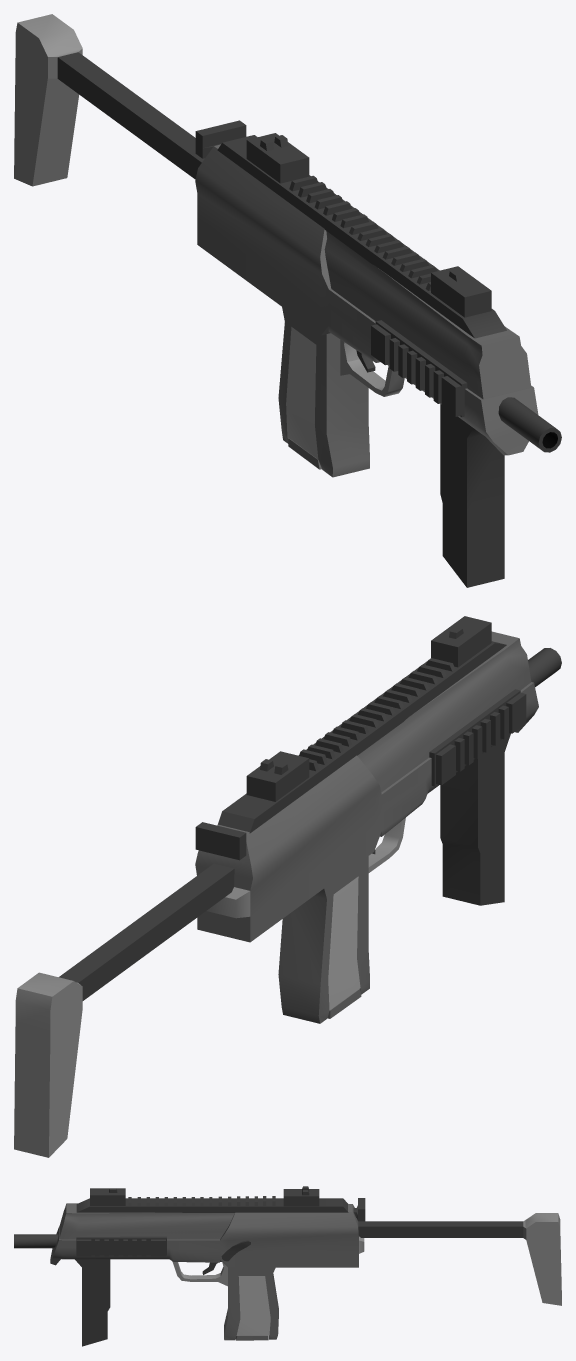
The model's file is 08-Tactical-SMG.glb.
3 views of the same model, one above another, from view 1: azimuth 30°, elevation 25°; view 2: azimuth 150°, elevation 25°; view 3: azimuth 270°, elevation 25° (orthographic). The views are drawn at different scales.
Parts seen in each view (by area): view 1: Tactical SMG; view 2: Tactical SMG; view 3: Tactical SMG.
Boxes of the visible parts, x1,y1,x2,y2 form: Tactical SMG: (14, 14, 561, 587); Tactical SMG: (14, 616, 561, 1157); Tactical SMG: (14, 1186, 561, 1346).
Size of the model in its own units: 0.0527 by 0.206 by 0.67.
Materials: 1 (1 with a texture image).
